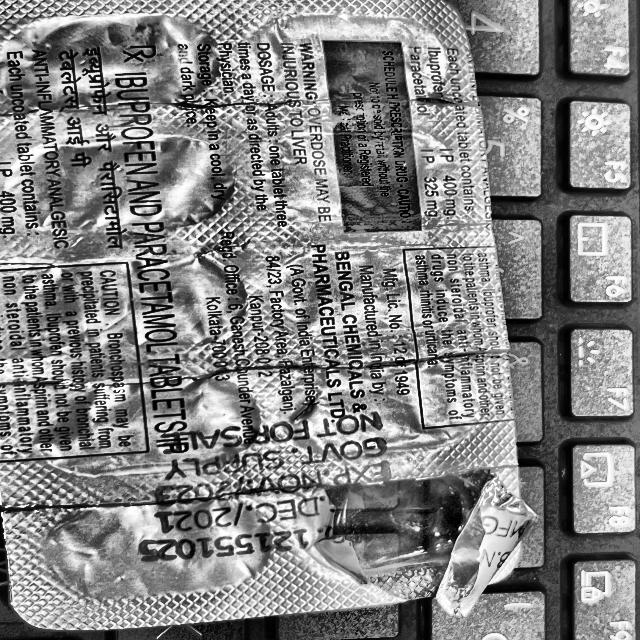IBUPROFEN AND PARACETAMOL TABLETS: (93, 70, 204, 447)
